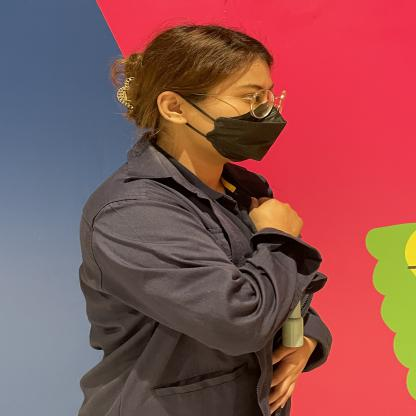Sadness: (226, 177, 338, 293)
